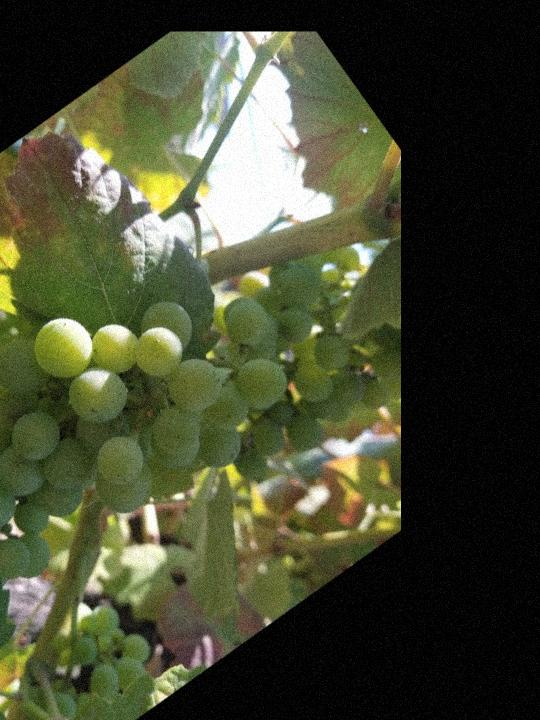grape: (0, 223, 314, 637)
